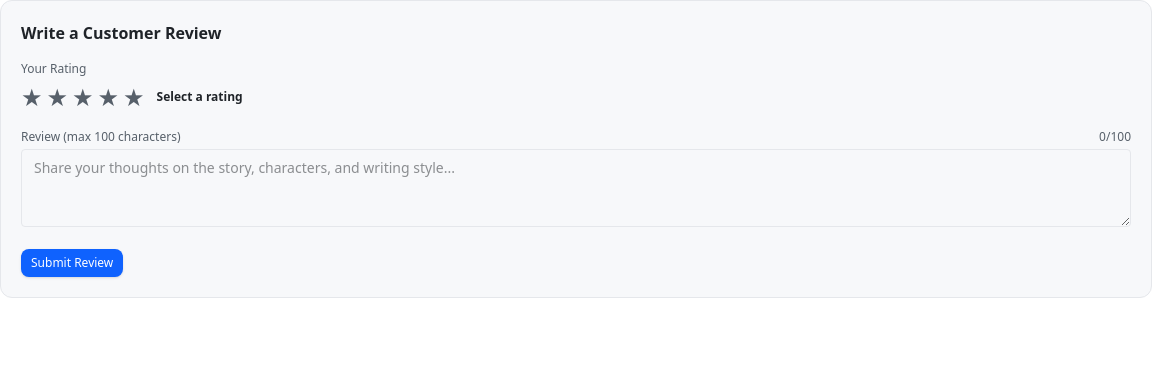
Test: ReviewFormTest › submits rating and body then shows thanks
Click the button named "Rate 4 stars" at (108, 97), box x1=98 y1=81 x2=119 y2=113
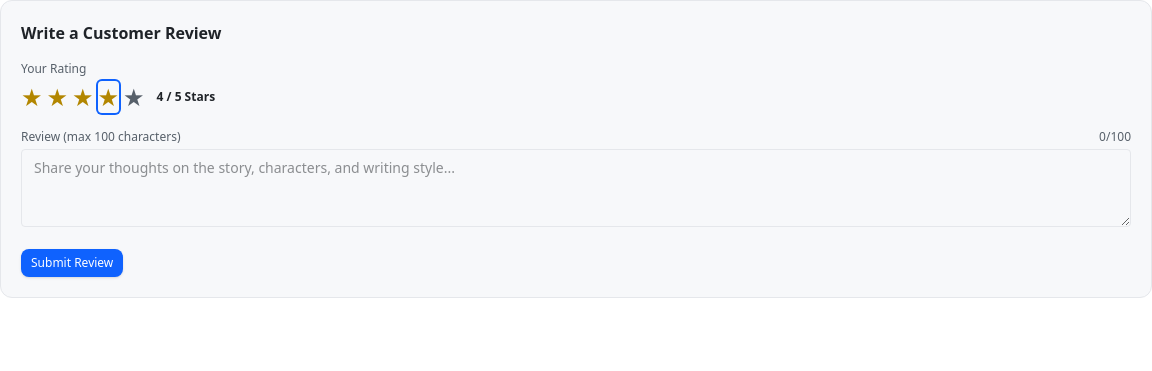
Type "Great read" into the text box with placeholder "Share your thoughts" at (576, 188), box x1=21 y1=149 x2=1131 y2=227
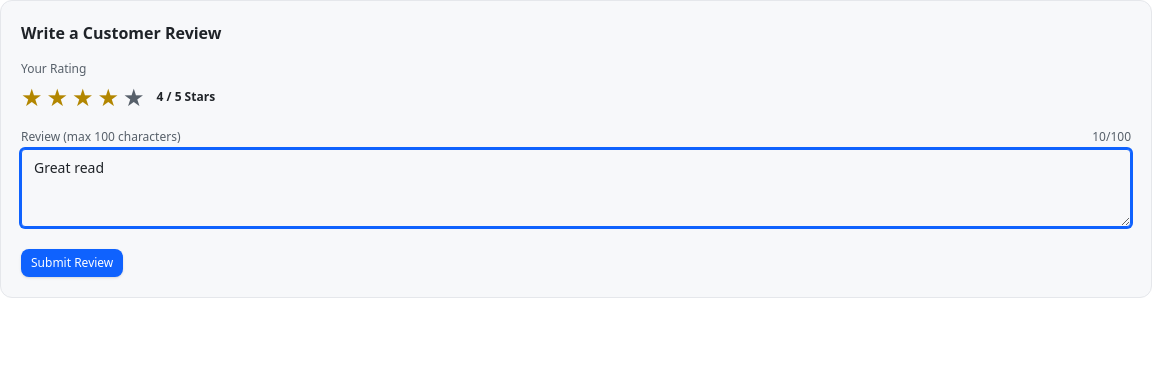
Click the button "Submit Review" at (72, 263), box x1=21 y1=249 x2=123 y2=277
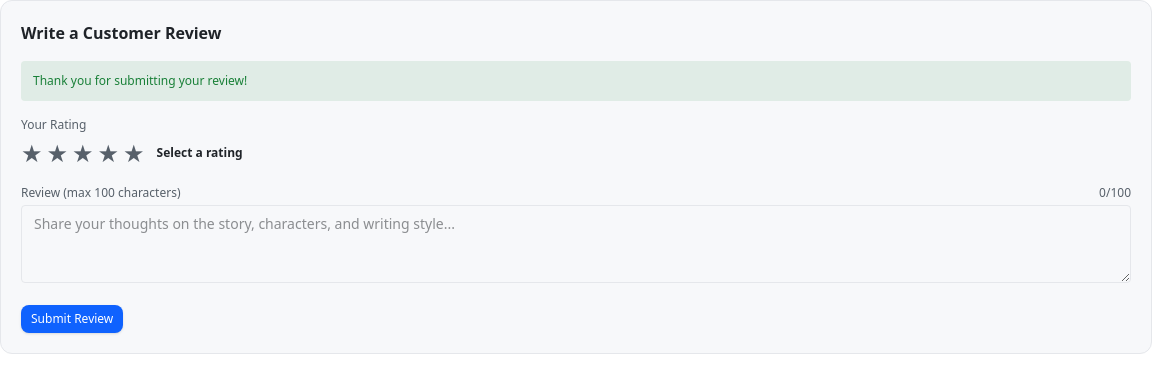
Expected: the text "Thank you for submitting your review!" is shown, x1=21 y1=61 x2=1131 y2=101
